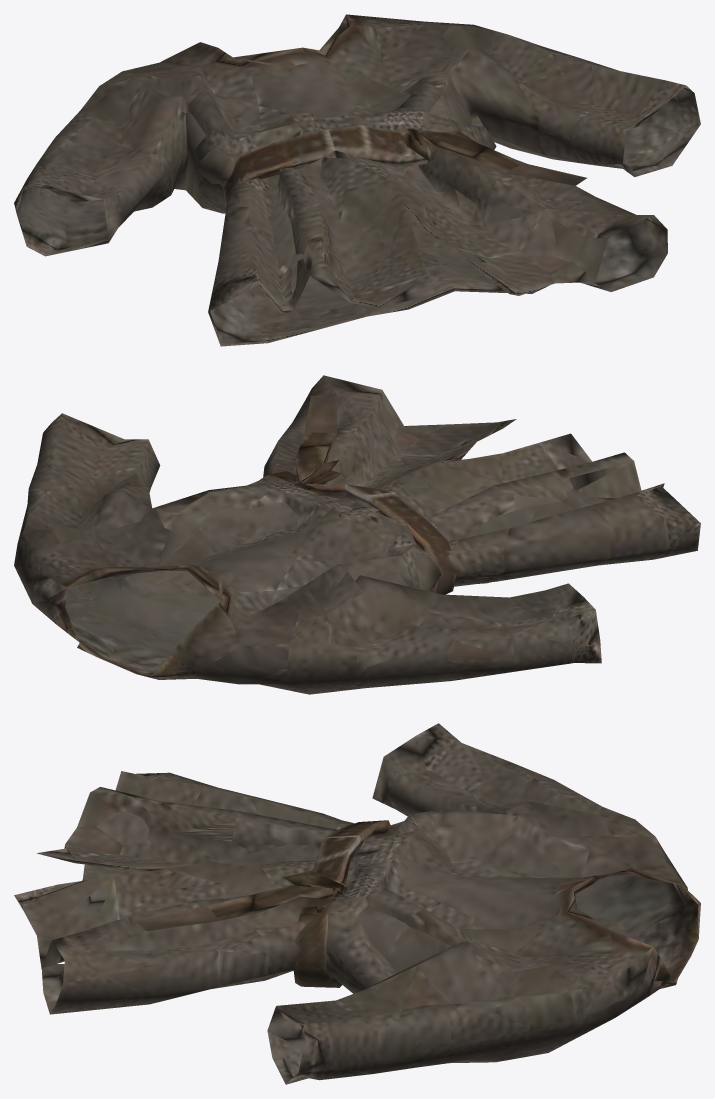
File: g_armor.glb
3 views of the same model, one above another, from view 1: azimuth 30°, elevation 25°; view 2: azimuth 150°, elevation 25°; view 3: azimuth 270°, elevation 25° (orthographic). The views are drawn at different scales.
Parts seen in each view (by area): view 1: g_armor; view 2: g_armor; view 3: g_armor.
Part boxes in pixels (x1,y1,x2,y2): g_armor: [14, 14, 700, 346]; g_armor: [14, 375, 700, 694]; g_armor: [14, 723, 700, 1084].
Bounding box in the file's own units: 0.5994 × 0.1163 × 0.5548.
1 material, 1 textured.
